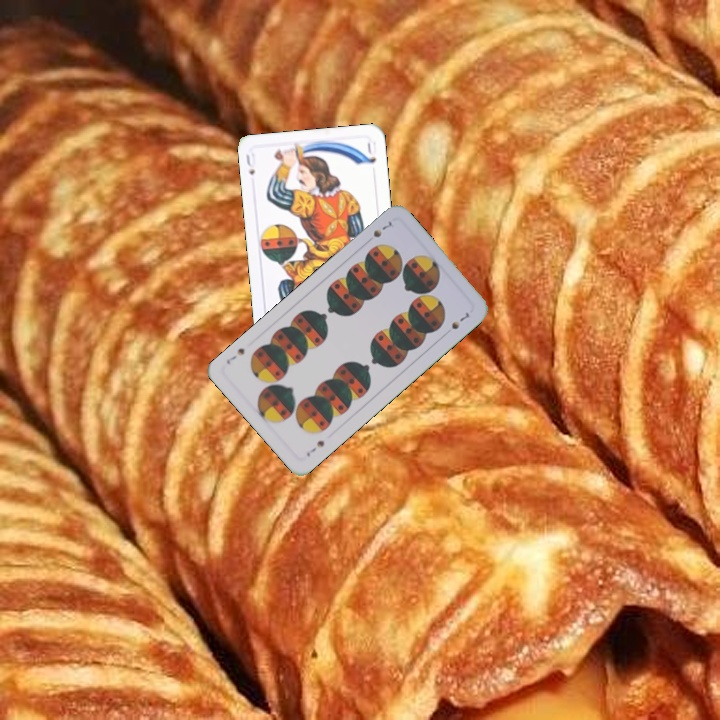S7: (302, 436, 327, 460), (369, 217, 395, 240)
SU: (242, 149, 258, 178)
